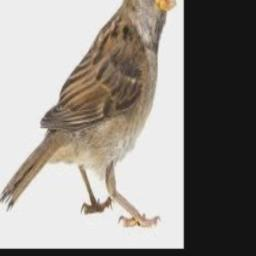Sparrow: (0, 0, 176, 227)
